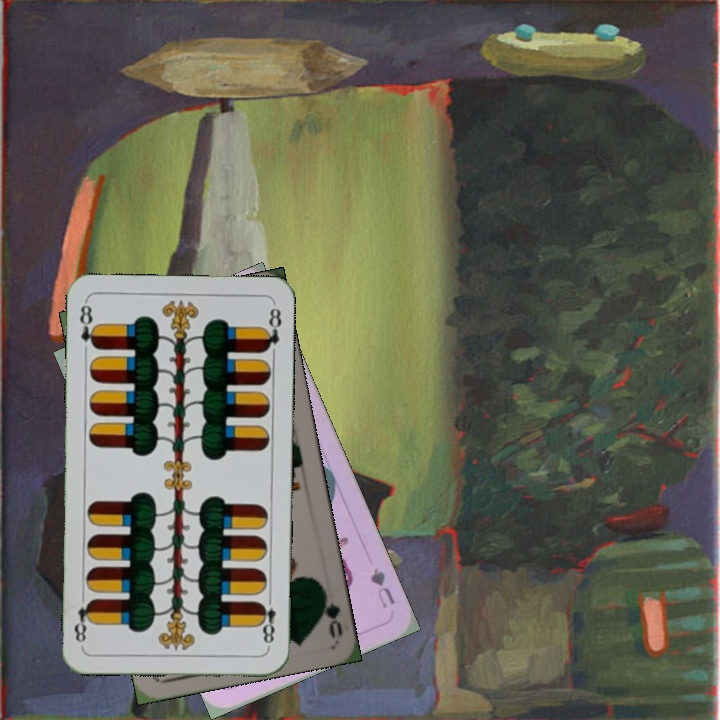E8: (255, 591, 278, 650), (75, 299, 100, 351)
GO: (316, 581, 345, 639)
GU: (366, 564, 398, 611)
